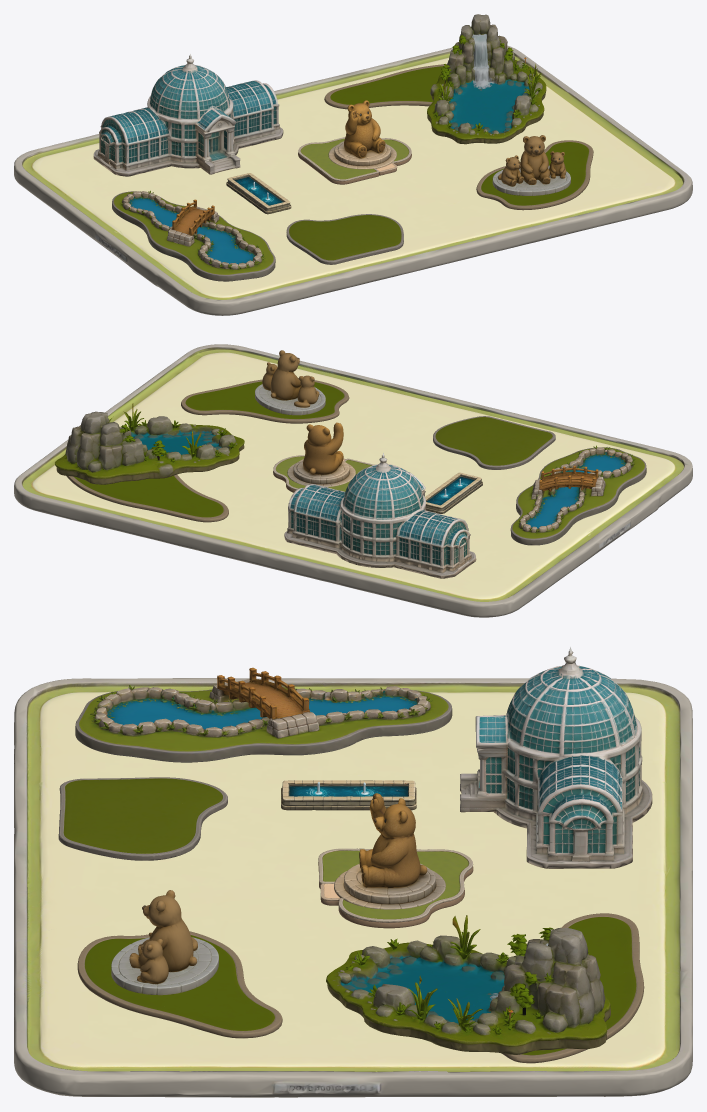
The model's file is new-beartree.glb.
The picture shows the model from 3 angles, top to bottom: view 1: azimuth 30°, elevation 25°; view 2: azimuth 150°, elevation 25°; view 3: azimuth 270°, elevation 25°; orthographic projection. The views are drawn at different scales.
Parts seen in each view (by area): view 1: tripo_node_5f03e4b1-cb10-4628-86c0-694e881b8f6d, greenhouse, tripo_node_0c14ca38-db79-47c2-abce-98baef3d9c56, tripo_node_a4258a26-af52-403b-91d9-d9ea48d7a3bf, tripo_node_d809d9ff-d45f-44bf-b4fc-509f2cc2fdd4, tripo_node_409e46c0-f9f2-416b-838f-0b3fe44093fe.001, tripo_node_816cfa46-0ef3-4a12-be52-0dae3d331bff, tripo_node_409e46c0-f9f2-416b-838f-0b3fe44093fe, tripo_node_663ac3ae-202d-4035-bde3-3b143688b477, tripo_node_205fe7ff-0ff3-479d-8efe-efb90df4bf37, tripo_node_b77c1af7-cf9c-4244-8468-ddc01613030e; view 2: tripo_node_5f03e4b1-cb10-4628-86c0-694e881b8f6d, greenhouse, tripo_node_0c14ca38-db79-47c2-abce-98baef3d9c56, tripo_node_a4258a26-af52-403b-91d9-d9ea48d7a3bf, tripo_node_d809d9ff-d45f-44bf-b4fc-509f2cc2fdd4, tripo_node_409e46c0-f9f2-416b-838f-0b3fe44093fe.001, tripo_node_409e46c0-f9f2-416b-838f-0b3fe44093fe, tripo_node_816cfa46-0ef3-4a12-be52-0dae3d331bff, tripo_node_663ac3ae-202d-4035-bde3-3b143688b477, tripo_node_b77c1af7-cf9c-4244-8468-ddc01613030e, tripo_node_205fe7ff-0ff3-479d-8efe-efb90df4bf37; view 3: tripo_node_5f03e4b1-cb10-4628-86c0-694e881b8f6d, greenhouse, tripo_node_0c14ca38-db79-47c2-abce-98baef3d9c56, tripo_node_a4258a26-af52-403b-91d9-d9ea48d7a3bf, tripo_node_d809d9ff-d45f-44bf-b4fc-509f2cc2fdd4, tripo_node_409e46c0-f9f2-416b-838f-0b3fe44093fe, tripo_node_663ac3ae-202d-4035-bde3-3b143688b477, tripo_node_816cfa46-0ef3-4a12-be52-0dae3d331bff, tripo_node_409e46c0-f9f2-416b-838f-0b3fe44093fe.001, tripo_node_205fe7ff-0ff3-479d-8efe-efb90df4bf37, tripo_node_b77c1af7-cf9c-4244-8468-ddc01613030e.
Part boxes in pixels (box(x1,y1,x2,y2)): tripo_node_5f03e4b1-cb10-4628-86c0-694e881b8f6d: box(14, 45, 692, 315); greenhouse: box(93, 54, 283, 176); tripo_node_0c14ca38-db79-47c2-abce-98baef3d9c56: box(427, 14, 546, 144); tripo_node_a4258a26-af52-403b-91d9-d9ea48d7a3bf: box(112, 190, 275, 281); tripo_node_d809d9ff-d45f-44bf-b4fc-509f2cc2fdd4: box(286, 214, 403, 264); tripo_node_409e46c0-f9f2-416b-838f-0b3fe44093fe.001: box(324, 64, 446, 109); tripo_node_816cfa46-0ef3-4a12-be52-0dae3d331bff: box(492, 135, 570, 195); tripo_node_409e46c0-f9f2-416b-838f-0b3fe44093fe: box(476, 140, 593, 210); tripo_node_663ac3ae-202d-4035-bde3-3b143688b477: box(328, 100, 396, 169); tripo_node_205fe7ff-0ff3-479d-8efe-efb90df4bf37: box(298, 137, 411, 184); tripo_node_b77c1af7-cf9c-4244-8468-ddc01613030e: box(226, 173, 291, 214); tripo_node_5f03e4b1-cb10-4628-86c0-694e881b8f6d: box(14, 344, 692, 617); greenhouse: box(284, 453, 476, 578); tripo_node_0c14ca38-db79-47c2-abce-98baef3d9c56: box(55, 403, 244, 484); tripo_node_a4258a26-af52-403b-91d9-d9ea48d7a3bf: box(510, 445, 646, 545); tripo_node_d809d9ff-d45f-44bf-b4fc-509f2cc2fdd4: box(433, 416, 555, 469); tripo_node_409e46c0-f9f2-416b-838f-0b3fe44093fe.001: box(66, 474, 228, 522); tripo_node_409e46c0-f9f2-416b-838f-0b3fe44093fe: box(181, 378, 349, 423); tripo_node_816cfa46-0ef3-4a12-be52-0dae3d331bff: box(255, 350, 325, 415); tripo_node_663ac3ae-202d-4035-bde3-3b143688b477: box(287, 422, 355, 487); tripo_node_b77c1af7-cf9c-4244-8468-ddc01613030e: box(425, 472, 482, 513); tripo_node_205fe7ff-0ff3-479d-8efe-efb90df4bf37: box(273, 455, 374, 492); tripo_node_5f03e4b1-cb10-4628-86c0-694e881b8f6d: box(14, 678, 692, 1097); greenhouse: box(460, 647, 652, 868); tripo_node_0c14ca38-db79-47c2-abce-98baef3d9c56: box(326, 915, 610, 1054); tripo_node_a4258a26-af52-403b-91d9-d9ea48d7a3bf: box(75, 667, 452, 762); tripo_node_d809d9ff-d45f-44bf-b4fc-509f2cc2fdd4: box(58, 777, 227, 860); tripo_node_409e46c0-f9f2-416b-838f-0b3fe44093fe: box(77, 931, 282, 1038); tripo_node_663ac3ae-202d-4035-bde3-3b143688b477: box(334, 793, 445, 909); tripo_node_816cfa46-0ef3-4a12-be52-0dae3d331bff: box(111, 890, 218, 995); tripo_node_409e46c0-f9f2-416b-838f-0b3fe44093fe.001: box(501, 913, 644, 1063); tripo_node_205fe7ff-0ff3-479d-8efe-efb90df4bf37: box(318, 848, 473, 928); tripo_node_b77c1af7-cf9c-4244-8468-ddc01613030e: box(281, 780, 416, 810).
Size of the model in its own units: 35 by 7.17 by 25.
10 materials, 10 textured.
